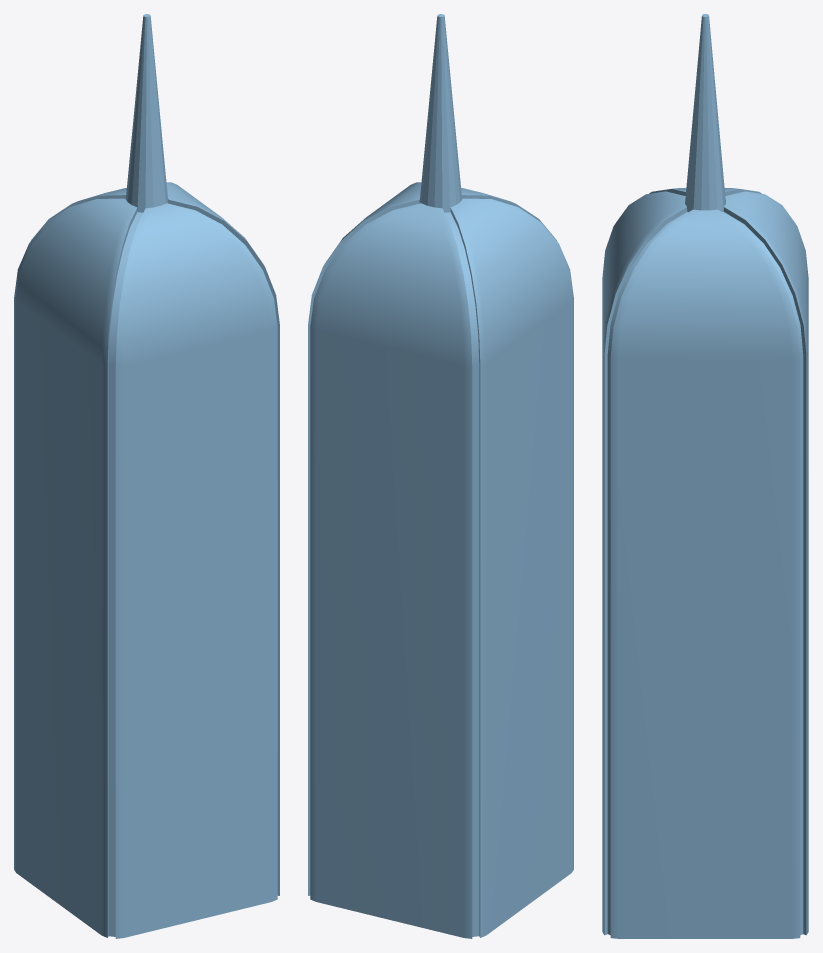
3 views of the same model, side by side, from view 1: azimuth 30°, elevation 25°; view 2: azimuth 150°, elevation 25°; view 3: azimuth 270°, elevation 25° (orthographic).
Parts seen in each view (by area): view 1: pCube39; view 2: pCube39; view 3: pCube39.
Part boxes in pixels (left/top/right/bottom): pCube39: left=14, top=14, right=279, bottom=938; pCube39: left=308, top=14, right=573, bottom=938; pCube39: left=602, top=14, right=808, bottom=938.
Size of the model in its own units: 1667 by 7843 by 1667.
